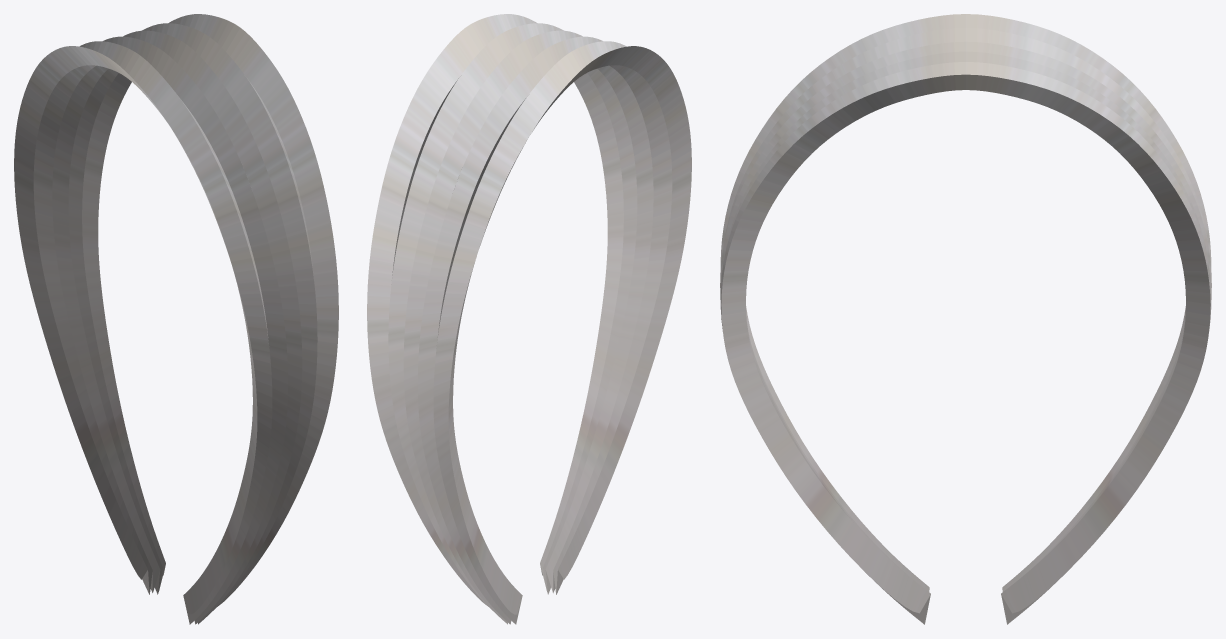
The model's file is Bellows_AccordionMorph5.fbx.
The picture shows the model from 3 angles, left to right: view 1: azimuth 30°, elevation 25°; view 2: azimuth 150°, elevation 25°; view 3: azimuth 270°, elevation 25°; orthographic projection. The views are drawn at different scales.
Visible parts, largest first — view 1: AccordionNarrow; view 2: AccordionNarrow; view 3: AccordionNarrow.
Boxes of the visible parts, x1,y1,x2,y2 form: AccordionNarrow: (14, 14, 338, 624); AccordionNarrow: (367, 14, 691, 624); AccordionNarrow: (720, 14, 1211, 624).
Size of the model in its own units: 3.65 by 15.59 by 11.95.
